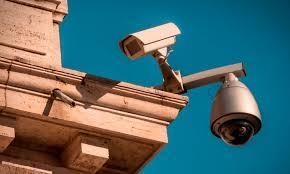maru: (207, 72, 264, 158)
tutu: (115, 19, 183, 66)
